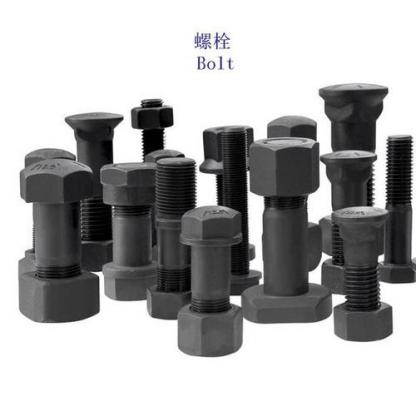FOD: (332, 203, 389, 302), (380, 133, 415, 280)
